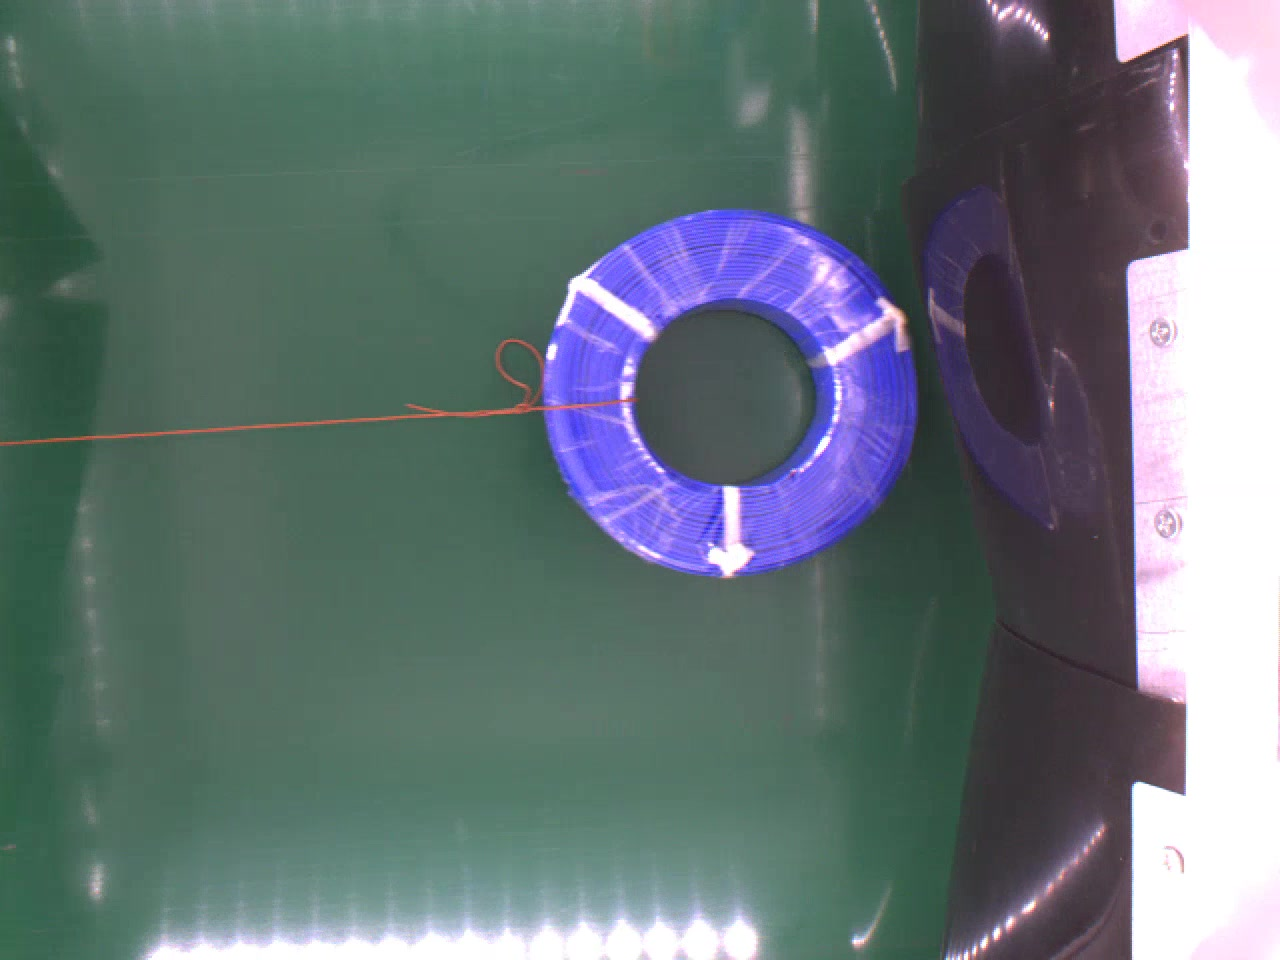blue: (539, 204, 920, 573)
